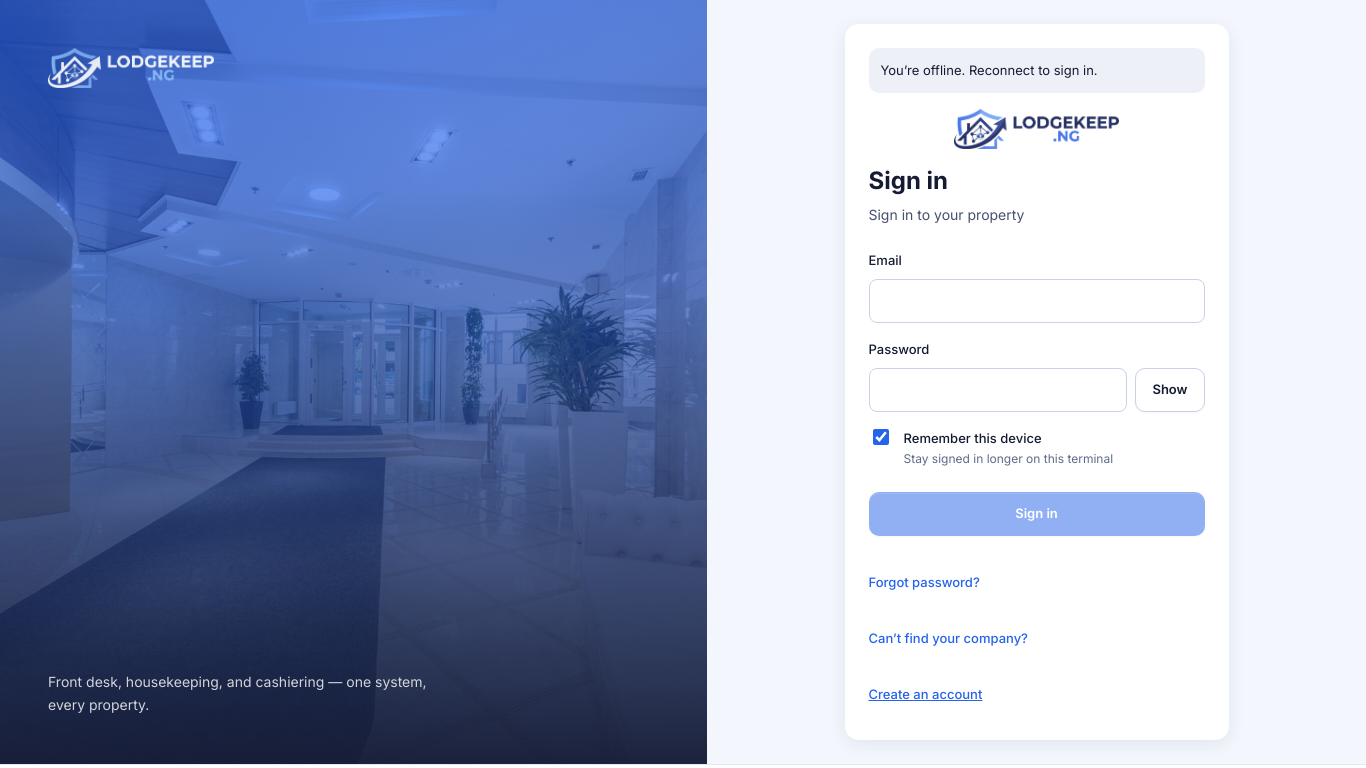
Test: <StaffLoginScreen> › disables the forgot-password request step when isOffline too, matching the rest of the screen
Click the button "Forgot password?": (924, 582) [868, 560, 980, 604]
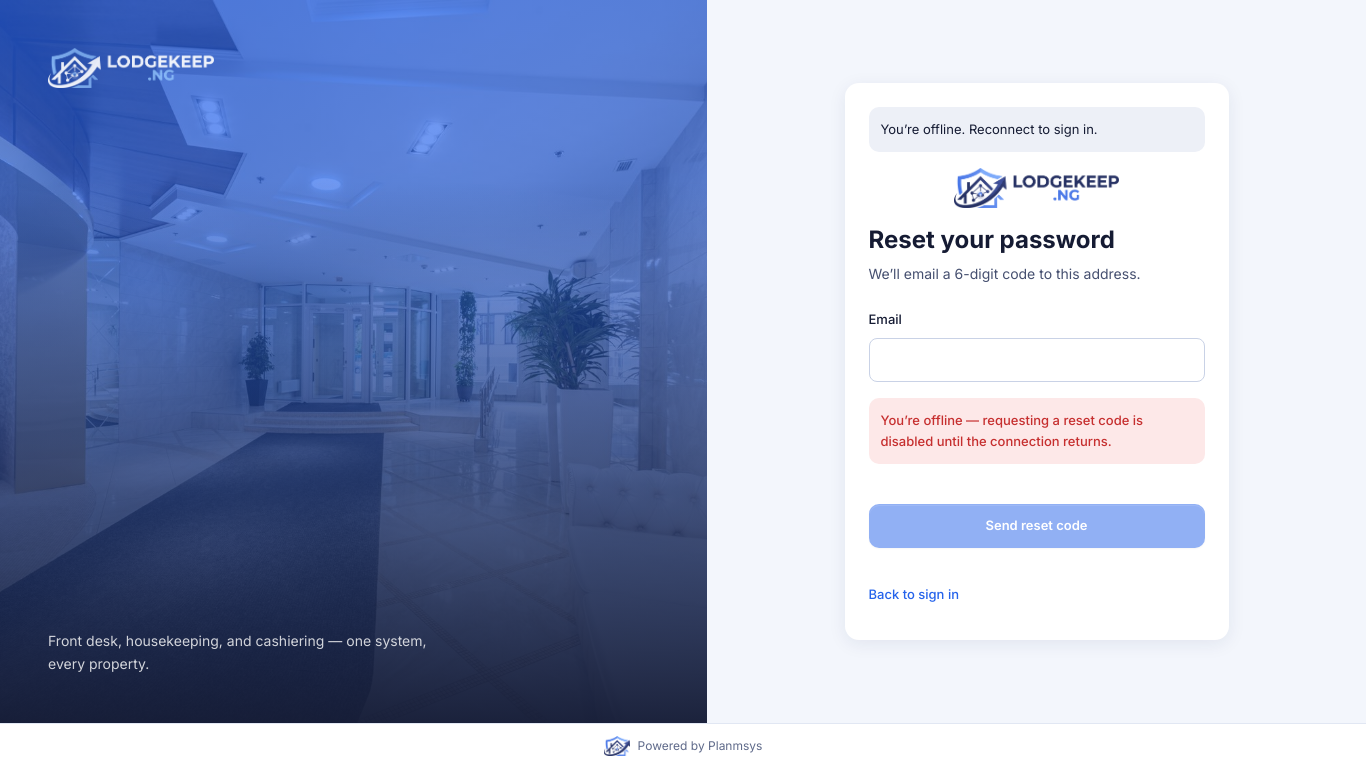
Expected: the text "requesting a reset code is disabled" is shown, [880, 412, 1143, 449]
Expected: the button "Send reset code" is disabled, [868, 504, 1204, 548]
